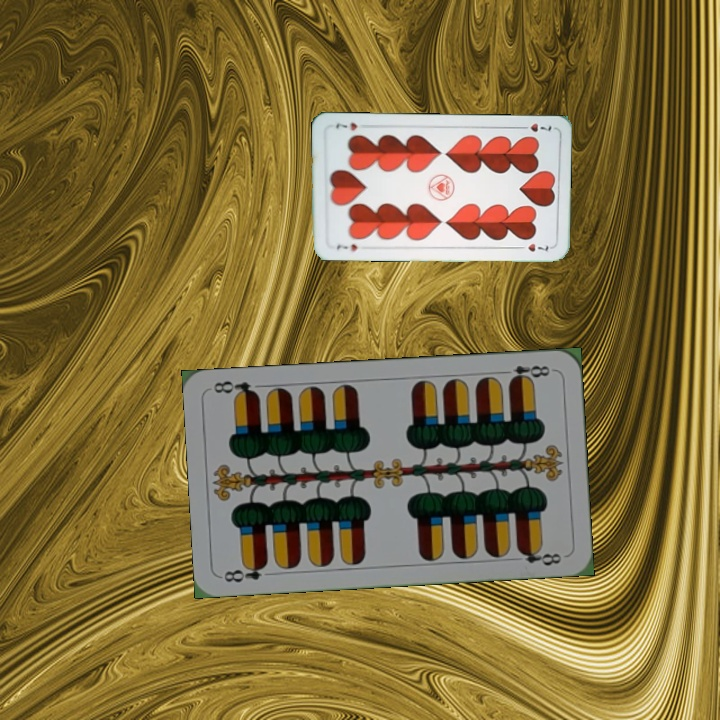E8: (497, 361, 553, 385), (219, 559, 270, 585)
H7: (515, 119, 554, 134), (332, 240, 363, 253)
